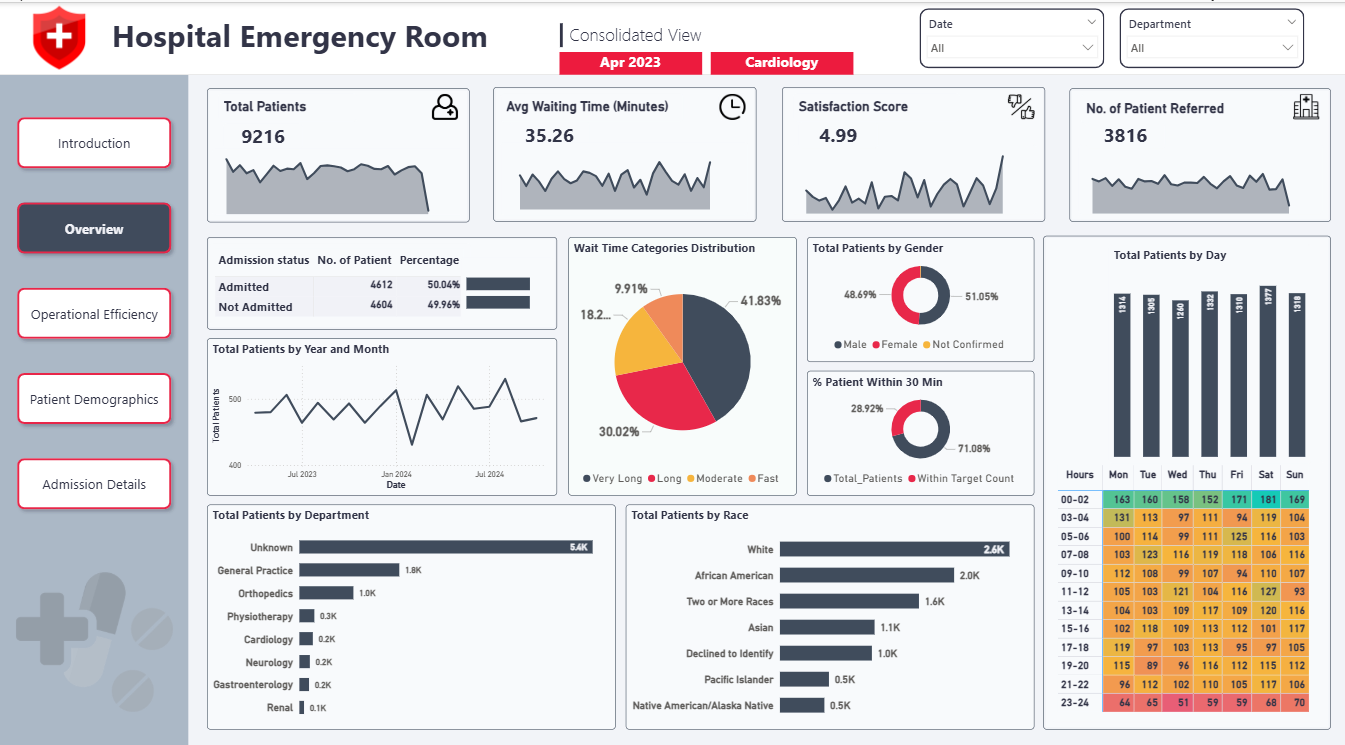

The page's visual inventory and layout, read from the dashboard file:
{"tool":"powerbi","page":{"name":"Overview ","canvas":[1900,1050],"ordinal":1},"visuals":[{"type":"group","id":"g1","title":"Group 3","box":[0,0,1900.1,1050.4],"z":0},{"type":"textbox","box":[800.1,24.6,204.5,44],"z":0,"group":"g8"},{"type":"shape","box":[699.1,119.6,370.4,189.8],"z":0,"group":"g5"},{"type":"shape","box":[1104.3,119.6,370.4,189.6],"z":0,"group":"g6"},{"type":"shape","box":[295.6,121.4,369.3,188.8],"z":0,"group":"g2"},{"type":"shape","box":[1509.6,121.4,368.1,188],"z":0,"group":"g7"},{"type":"shape","box":[1472.6,329,404.7,695],"z":500,"group":"g4"},{"type":"shape","box":[0,0,269.3,1050.4],"z":1000,"group":"g1"},{"type":"shape","box":[782.9,29.9,22.8,33.7],"z":1000,"group":"g8"},{"type":"textbox","box":[1119.8,128,234.6,40.3],"z":1000,"group":"g6"},{"type":"textbox","box":[709,128.5,256.9,40.8],"z":1000,"group":"g5"},{"type":"textbox","box":[310.9,129.3,195.3,40.2],"z":1000,"group":"g2"},{"type":"textbox","box":[1525.7,130.3,285.2,40],"z":1000,"group":"g7"},{"type":"lineChart","title":"Total Patients by Year and Month","fields":{"Y":["Fact_patient.Total_Patient"],"Category":["Dim_Date.Date.Variation.Date Hierarchy.Year","Dim_Date.Date.Variation.Date Hierarchy.Month"]},"box":[295.6,473.3,492.6,221.7],"z":1000},{"type":"shape","box":[1.8,0,1898.4,102],"z":1500,"group":"g1"},{"type":"group","id":"g2","title":"Group 1","box":[295.6,121.4,367.7,188.3],"z":2000},{"type":"card","fields":{"Values":["Fact_patient.Avg_satisfaction_score"]},"box":[1127.6,168.3,112.5,37],"z":2000,"group":"g6"},{"type":"card","fields":{"Values":["Fact_patient.Avg Wait"]},"box":[722.4,168.4,112.5,37],"z":2000,"group":"g5"},{"type":"card","fields":{"Values":["Fact_patient.No. of Patient Reffered"]},"box":[1532.7,169.7,111.8,36.7],"z":2000,"group":"g7"},{"type":"card","fields":{"Values":["Fact_patient.Total_Patient"]},"box":[318.8,170,112.1,36.8],"z":2000,"group":"g2"},{"type":"clusteredColumnChart","title":"Total Patients by Day","fields":{"Y":["Fact_patient.Total_Patient"],"Category":["Dim_Date.day_name"]},"box":[1564.8,341.3,286.8,307.9],"z":2000,"group":"g4"},{"type":"card","fields":{"Values":["Min(Dim_Date.month & year)"]},"box":[791.7,70.4,200.6,31.7],"z":3000},{"type":"stackedAreaChart","fields":{"Category":["Dim_Date.Date.Variation.Date Hierarchy.Day"],"Y":["Fact_patient.Avg Wait"]},"box":[709,197.7,348.4,103],"z":3000,"group":"g5"},{"type":"stackedAreaChart","fields":{"Category":["Dim_Date.Date.Variation.Date Hierarchy.Day"],"Y":["Fact_patient.Avg_satisfaction_score"]},"box":[1118.3,200.3,344.8,98.6],"z":3000,"group":"g6"},{"type":"stackedAreaChart","fields":{"Category":["Dim_Date.Date.Variation.Date Hierarchy.Day"],"Y":["Fact_patient.No. of Patient Reffered"]},"box":[1522.4,200.5,344.8,98.5],"z":3000,"group":"g7"},{"type":"stackedAreaChart","fields":{"Y":["Fact_patient.Total_Patient"],"Category":["Dim_Date.Date.Variation.Date Hierarchy.Day"]},"box":[303.1,206.6,353.6,94.1],"z":3000,"group":"g2"},{"type":"card","fields":{"Values":["Min(Dim_department.department_referral)"]},"box":[1004.6,70.4,200.6,31.7],"z":4000},{"type":"pivotTable","fields":{"Values":["Fact_patient.Total_Patient"],"Rows":["Fact_patient.Hour_Range"],"Columns":["Dim_Date.day_name"]},"box":[1484.9,643.9,381.8,369.5],"z":4000,"group":"g4"},{"type":"group","id":"g3","title":"Group 2","box":[295.6,330.8,492.6,130.2],"z":5000},{"type":"clusteredBarChart","title":"Total Patients by Department","fields":{"Y":["Fact_patient.Total_Patient"],"Category":["Dim_department.department_referral"]},"box":[295.6,707.3,575,316.7],"z":7000},{"type":"clusteredBarChart","title":"Total Patients by Race","fields":{"Category":["Dim_race.patient_race"],"Y":["Fact_patient.Total_Patient"]},"box":[885,707.3,575.3,316.7],"z":8000},{"type":"donutChart","title":"Total Patients by Gender","fields":{"Category":["Dim_gender.patient_gender"],"Y":["Fact_patient.Total_Patient"]},"box":[1140.1,330.8,320.2,175.9],"z":9000},{"type":"shape","box":[295.6,330.8,492.6,130.2],"z":9500,"group":"g3"},{"type":"pivotTable","fields":{"Rows":["Dim_admission_flag.Admission status"],"Values":["Fact_patient.Total_Patient1","Fact_patient.Total_Patient"]},"box":[299.9,340.3,367.7,114.6],"z":10000,"group":"g3"},{"type":"donutChart","title":"% Patient Within 30 Min","fields":{"Y":["Fact_patient.Total_Patient","Fact_patient.Within Target Count"]},"box":[1140.1,519,320.2,175.9],"z":10000},{"type":"group","id":"g4","title":"Group 1","box":[1472.6,329,404.7,695],"z":11000},{"type":"clusteredBarChart","fields":{"Category":["Dim_admission_flag.Admission status"],"Y":["Fact_patient.Total_Patient"]},"box":[652.8,358.7,132.3,95.2],"z":11000,"group":"g3"},{"type":"group","id":"g5","title":"Group 1","box":[699.1,119.6,369.5,188.3],"z":12000},{"type":"group","id":"g6","title":"Group 1","box":[1104.3,119.6,369.5,188.3],"z":13000},{"type":"group","id":"g7","title":"Group 1","box":[1509.6,121.4,367.7,188.3],"z":14000},{"type":"pieChart","title":"Wait Time Categories Distribution","fields":{"Category":["Dim_waittime.Wait_Time_Category"],"Y":["Fact_patient.Avg Wait"]},"box":[804,330.8,322,364.2],"z":15000},{"type":"image","box":[1420.2,127.5,40.7,38.7],"z":15002,"group":"g6"},{"type":"image","box":[1015,127.6,40.7,38.7],"z":15002,"group":"g5"},{"type":"image","box":[610.6,129.3,40.6,38.5],"z":15002,"group":"g2"},{"type":"image","box":[1823.5,129.3,40.5,38.3],"z":15002,"group":"g7"},{"type":"textbox","box":[156.6,12.3,566.5,75.7],"z":16000},{"type":"image","box":[40.5,5.3,95,89.7],"z":17000},{"type":"pageNavigator","box":[20,153.3,235,571.7],"z":18000},{"type":"group","id":"g8","title":"Group 4","box":[782.9,24.6,221.7,44],"z":19000},{"type":"image","box":[26.4,782.9,221.7,235.8],"z":20000},{"type":"group","id":"g9","title":"Group 5","box":[1298.6,8.7,261.4,84.5],"z":21000},{"type":"shape","box":[1298.6,8.7,260.4,84.5],"z":21500,"group":"g9"},{"type":"shape","box":[1579.1,9.3,260.4,84.5],"z":21500,"group":"g10"},{"type":"group","id":"g10","title":"Group 5","box":[1579.1,9.3,261.4,85],"z":22000},{"type":"slicer","fields":{"Values":["Dim_Date.month & year"]},"box":[1298.6,14.1,261.4,70.5],"z":22000,"group":"g9"},{"type":"slicer","fields":{"Values":["Dim_department.department_referral"]},"box":[1579.1,14.7,261.4,70.5],"z":22000,"group":"g10"}]}

Visuals, with their boxes in screenshot pixels (x1, y1, x2, y2), scaled from the page's 1900x1050 canvas onto the 1345x745 screenshot:
"Group 3" group: select_region(0, 0, 1344, 744)
textbox: select_region(566, 17, 711, 49)
shape: select_region(495, 85, 757, 220)
shape: select_region(782, 85, 1044, 219)
shape: select_region(209, 86, 471, 220)
shape: select_region(1069, 86, 1329, 220)
shape: select_region(1042, 233, 1329, 727)
shape: select_region(0, 0, 191, 744)
shape: select_region(554, 21, 570, 45)
textbox: select_region(793, 91, 959, 119)
textbox: select_region(502, 91, 684, 120)
textbox: select_region(220, 92, 358, 120)
textbox: select_region(1080, 92, 1282, 121)
"Total Patients by Year and Month" lineChart: select_region(209, 336, 558, 493)
shape: select_region(1, 0, 1344, 72)
"Group 1" group: select_region(209, 86, 470, 220)
card - Fact_patient.Avg_satisfaction_score: select_region(798, 119, 878, 146)
card - Fact_patient.Avg Wait: select_region(511, 119, 591, 146)
card - Fact_patient.No. of Patient Reffered: select_region(1085, 120, 1164, 146)
card - Fact_patient.Total_Patient: select_region(226, 121, 305, 147)
"Total Patients by Day" clusteredColumnChart: select_region(1108, 242, 1311, 461)
card - Min(Dim_Date.month & year): select_region(560, 50, 702, 72)
stackedAreaChart - Dim_Date.Date.Variation.Date Hierarchy.Day x Fact_patient.Avg Wait: select_region(502, 140, 749, 213)
stackedAreaChart - Dim_Date.Date.Variation.Date Hierarchy.Day x Fact_patient.Avg_satisfaction_score: select_region(792, 142, 1036, 212)
stackedAreaChart - Dim_Date.Date.Variation.Date Hierarchy.Day x Fact_patient.No. of Patient Reffered: select_region(1078, 142, 1322, 212)
stackedAreaChart - Fact_patient.Total_Patient x Dim_Date.Date.Variation.Date Hierarchy.Day: select_region(215, 147, 465, 213)
card - Min(Dim_department.department_referral): select_region(711, 50, 853, 72)
pivotTable - Fact_patient.Total_Patient x Fact_patient.Hour_Range: select_region(1051, 457, 1321, 719)
"Group 2" group: select_region(209, 235, 558, 327)
"Total Patients by Department" clusteredBarChart: select_region(209, 502, 616, 727)
"Total Patients by Race" clusteredBarChart: select_region(626, 502, 1034, 727)
"Total Patients by Gender" donutChart: select_region(807, 235, 1034, 360)
shape: select_region(209, 235, 558, 327)
pivotTable - Dim_admission_flag.Admission status x Fact_patient.Total_Patient1: select_region(212, 241, 473, 323)
"% Patient Within 30 Min" donutChart: select_region(807, 368, 1034, 493)
"Group 1" group: select_region(1042, 233, 1329, 727)
clusteredBarChart - Dim_admission_flag.Admission status x Fact_patient.Total_Patient: select_region(462, 255, 556, 322)
"Group 1" group: select_region(495, 85, 756, 218)
"Group 1" group: select_region(782, 85, 1043, 218)
"Group 1" group: select_region(1069, 86, 1329, 220)
"Wait Time Categories Distribution" pieChart: select_region(569, 235, 797, 493)
image: select_region(1005, 90, 1034, 118)
image: select_region(719, 91, 747, 118)
image: select_region(432, 92, 461, 119)
image: select_region(1291, 92, 1320, 119)
textbox: select_region(111, 9, 512, 62)
image: select_region(29, 4, 96, 67)
pageNavigator: select_region(14, 109, 181, 514)
"Group 4" group: select_region(554, 17, 711, 49)
image: select_region(19, 555, 176, 723)
"Group 5" group: select_region(919, 6, 1104, 66)
shape: select_region(919, 6, 1104, 66)
shape: select_region(1118, 7, 1302, 67)
"Group 5" group: select_region(1118, 7, 1303, 67)
slicer - Dim_Date.month & year: select_region(919, 10, 1104, 60)
slicer - Dim_department.department_referral: select_region(1118, 10, 1303, 60)
